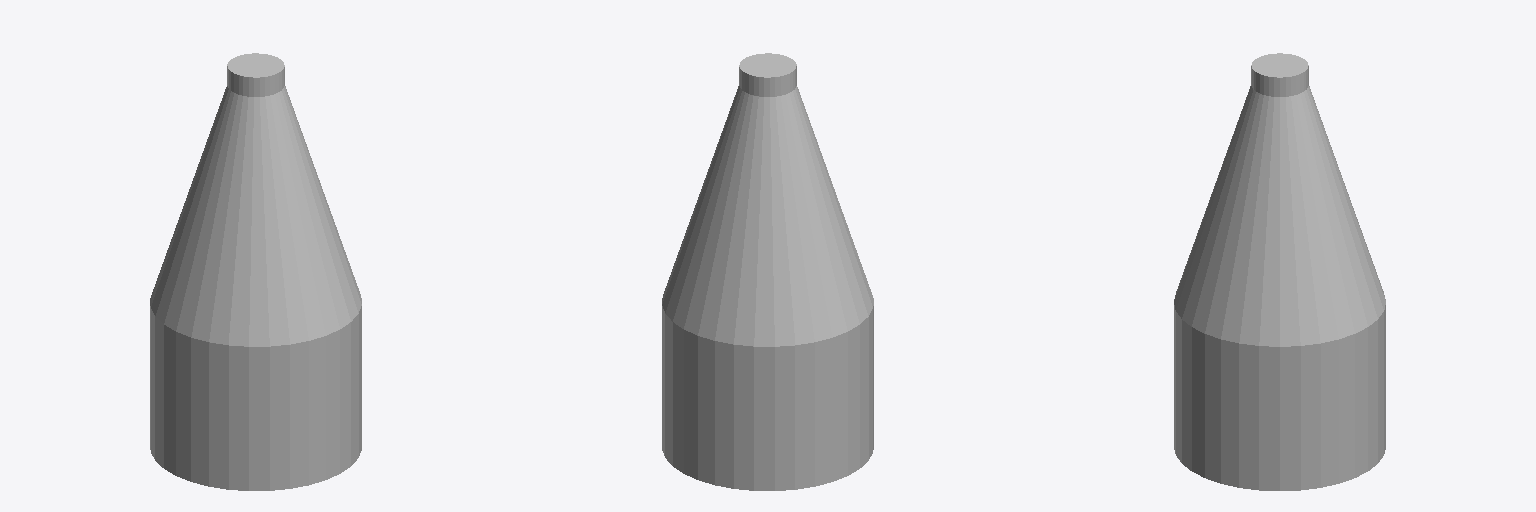
The model's file is FlameBottle.obj.
3 views of the same model, side by side, from view 1: azimuth 30°, elevation 25°; view 2: azimuth 150°, elevation 25°; view 3: azimuth 270°, elevation 25° (orthographic).
Visible parts, largest first — view 1: 円柱; view 2: 円柱; view 3: 円柱.
Part boxes in pixels (bbox=[...]): 円柱: bbox=[150, 53, 361, 490]; 円柱: bbox=[662, 53, 873, 490]; 円柱: bbox=[1174, 53, 1385, 490].
Bounding box in the file's own units: 1.21 × 2.39 × 1.21.